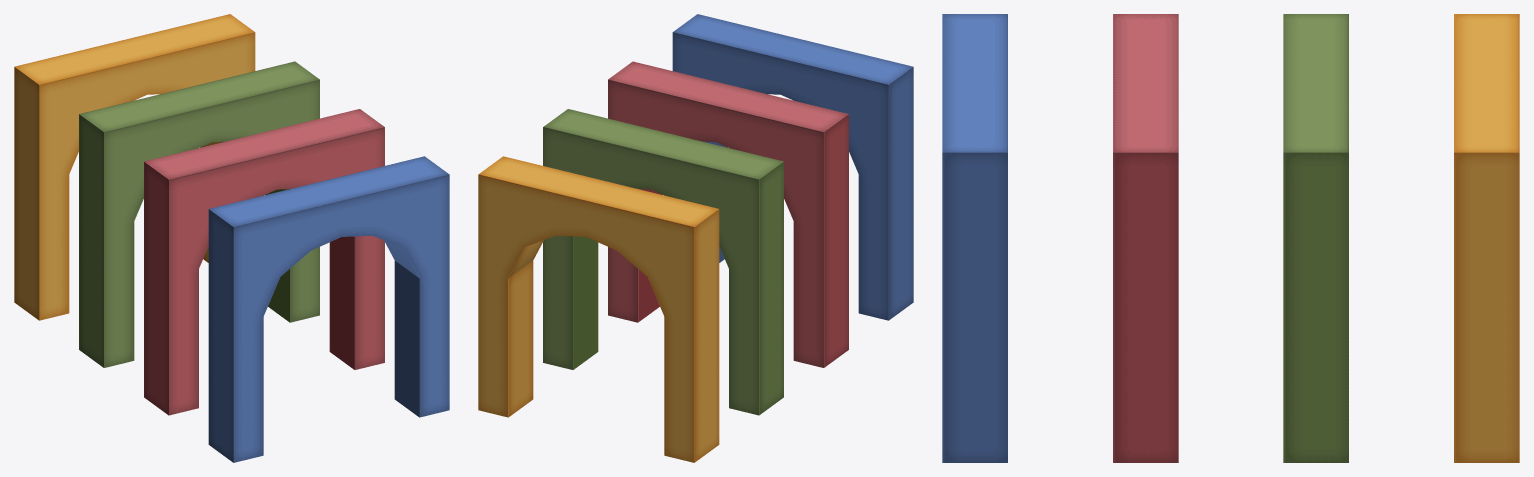
File: obj_gate.FBX
The picture shows the model from 3 angles, left to right: view 1: azimuth 30°, elevation 25°; view 2: azimuth 150°, elevation 25°; view 3: azimuth 270°, elevation 25°; orthographic projection. The views are drawn at different scales.
Visible parts, largest first — view 1: obj_gate003, obj_gate002, obj_gate001, obj_gate; view 2: obj_gate, obj_gate001, obj_gate002, obj_gate003; view 3: obj_gate, obj_gate001, obj_gate002, obj_gate003.
Boxes of the visible parts, x1,y1,x2,y2 form: obj_gate003: (208, 156, 449, 462); obj_gate002: (144, 109, 384, 415); obj_gate001: (79, 61, 319, 367); obj_gate: (14, 14, 255, 320); obj_gate: (478, 156, 719, 462); obj_gate001: (543, 109, 783, 415); obj_gate002: (608, 61, 848, 367); obj_gate003: (672, 14, 913, 320); obj_gate: (1454, 14, 1519, 462); obj_gate001: (1283, 14, 1348, 462); obj_gate002: (1113, 14, 1178, 462); obj_gate003: (942, 14, 1007, 462).
Size of the model in its own units: 5 by 5.21 by 8.79.
